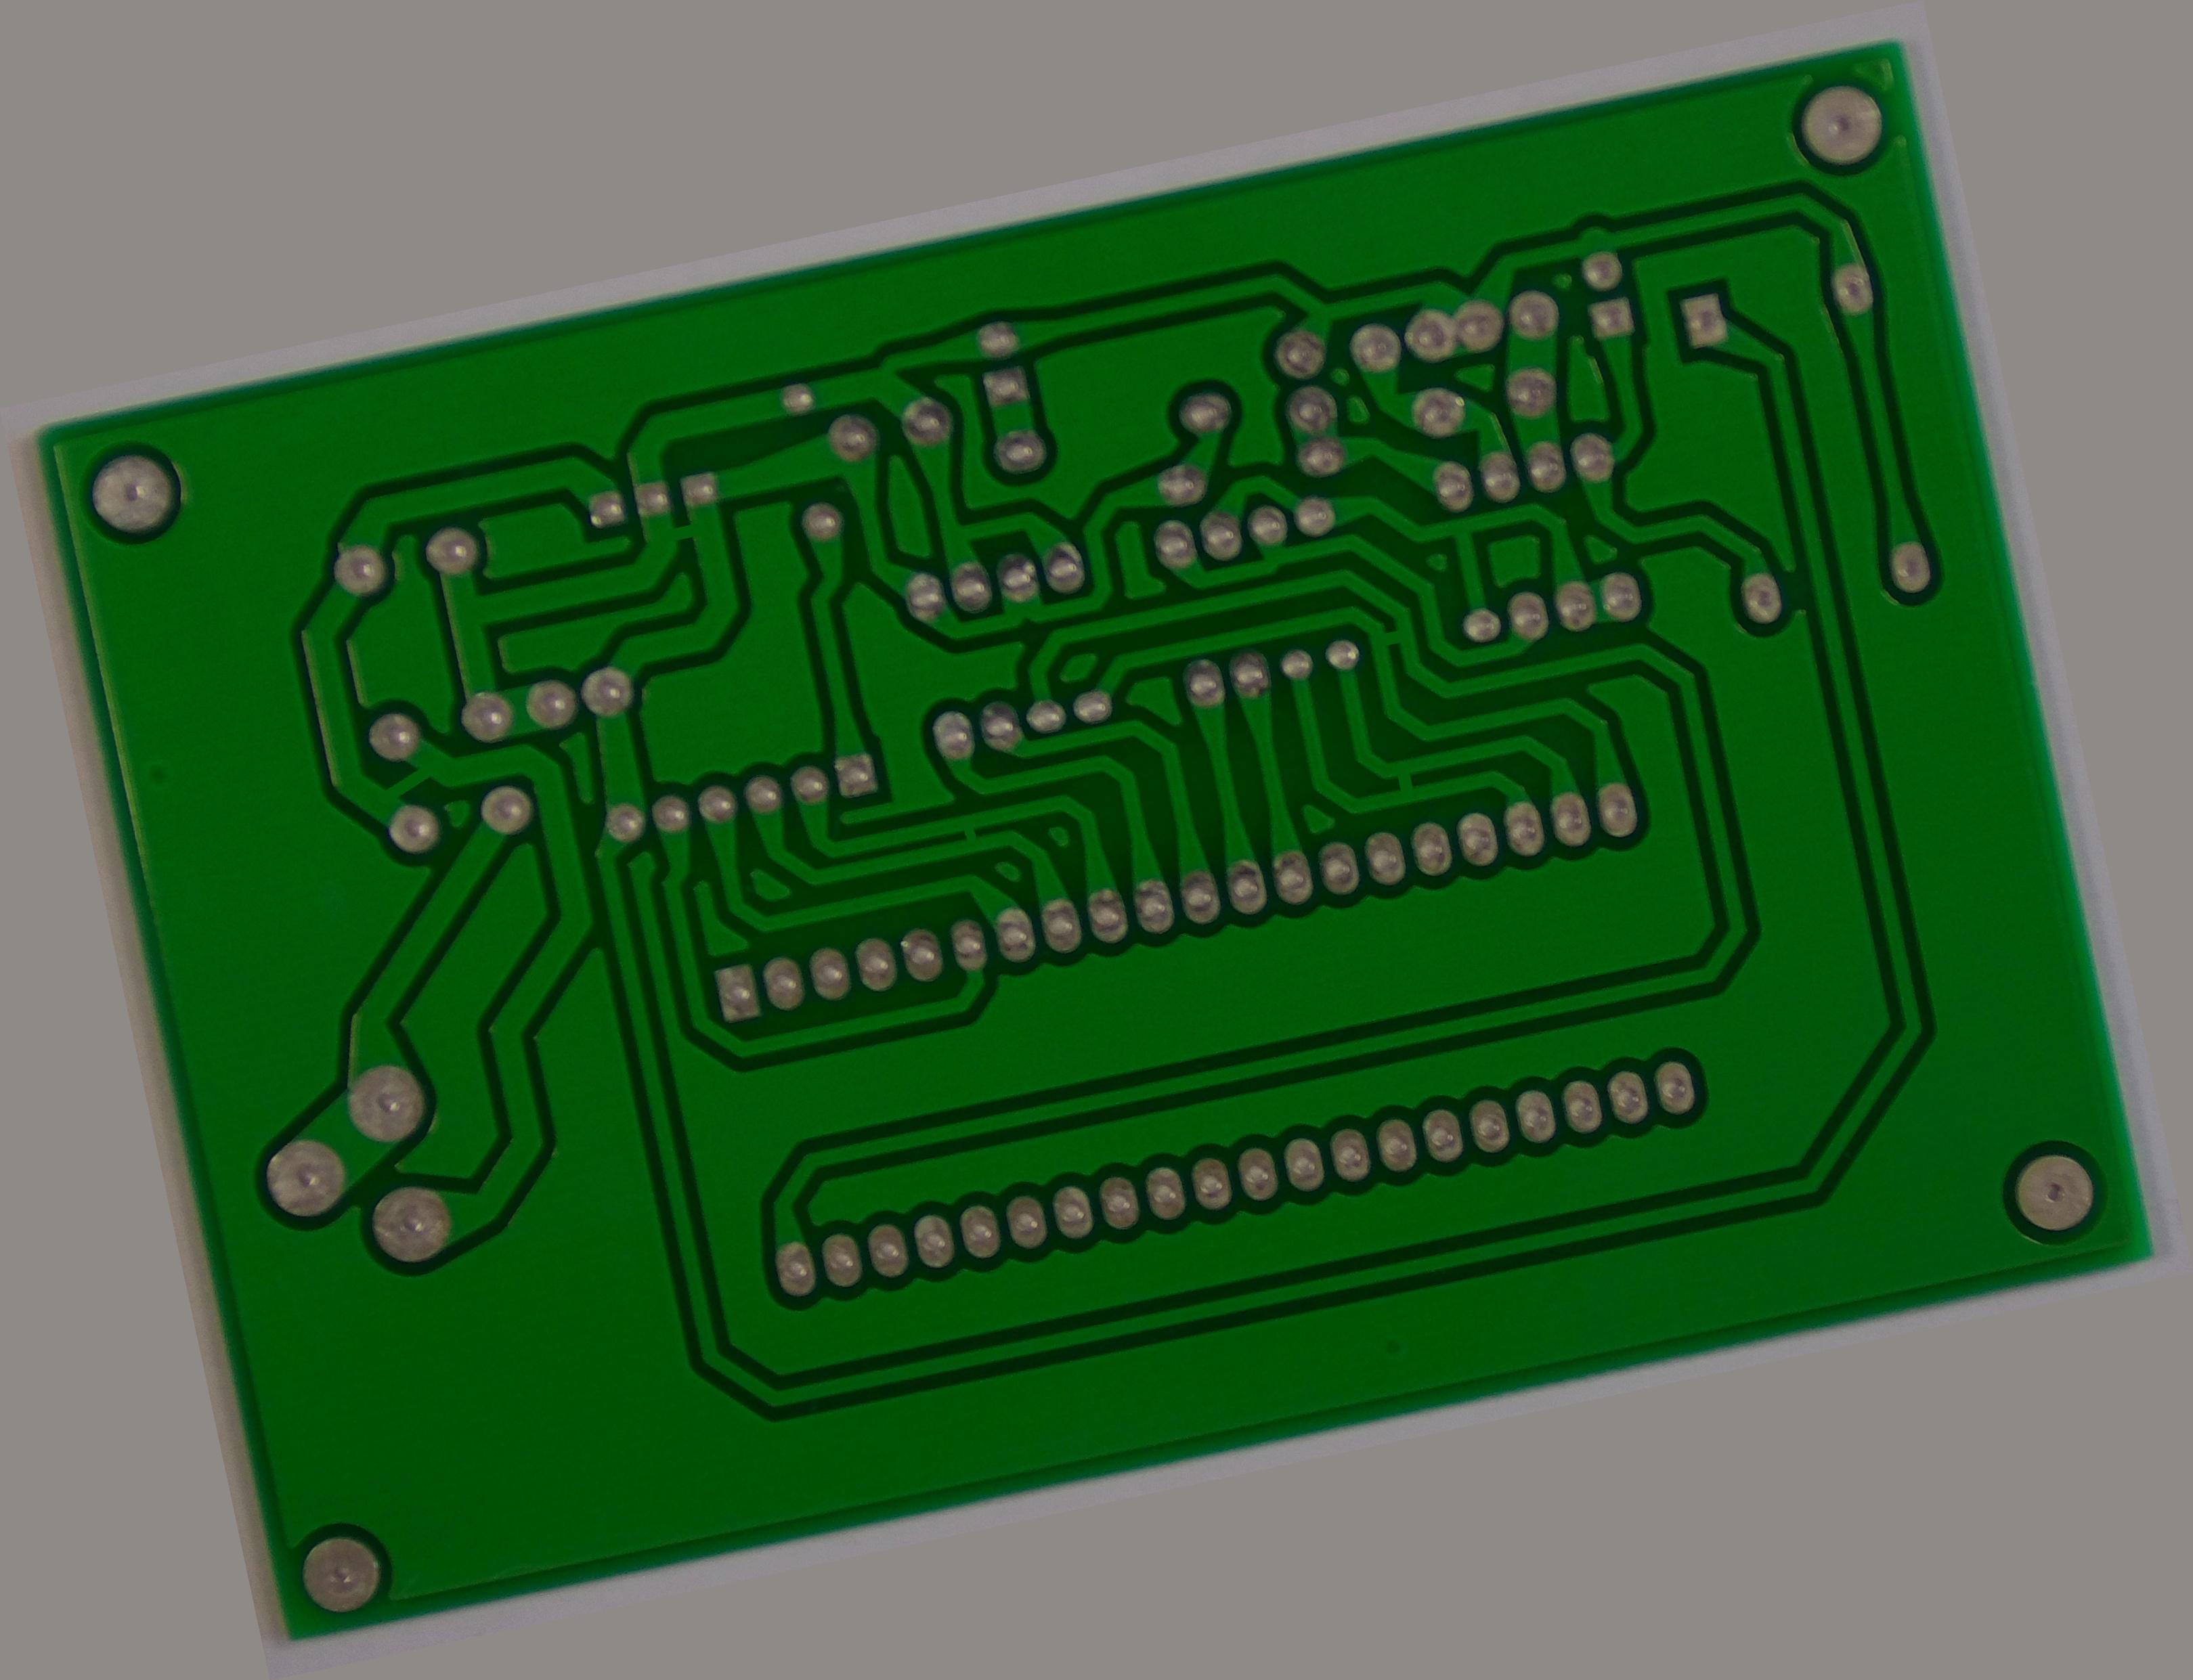short: (349, 745, 459, 836), (1364, 745, 1440, 815), (644, 501, 723, 565), (1357, 605, 1427, 671), (935, 799, 1002, 866)
